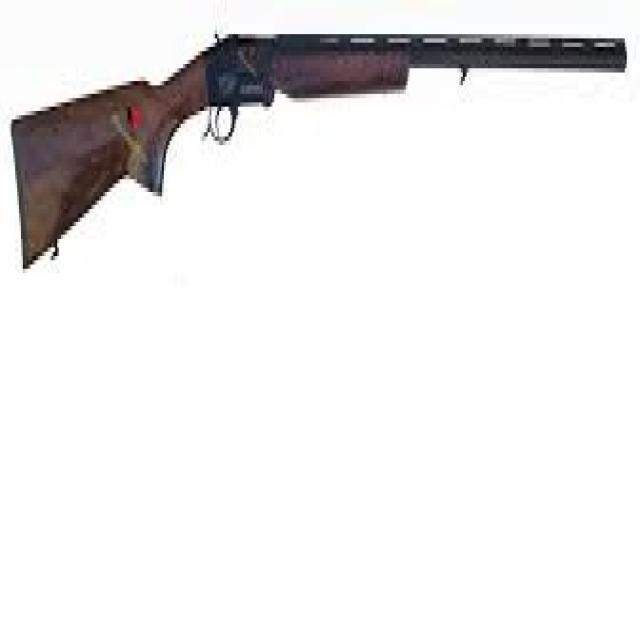rifle: (10, 22, 632, 283)
